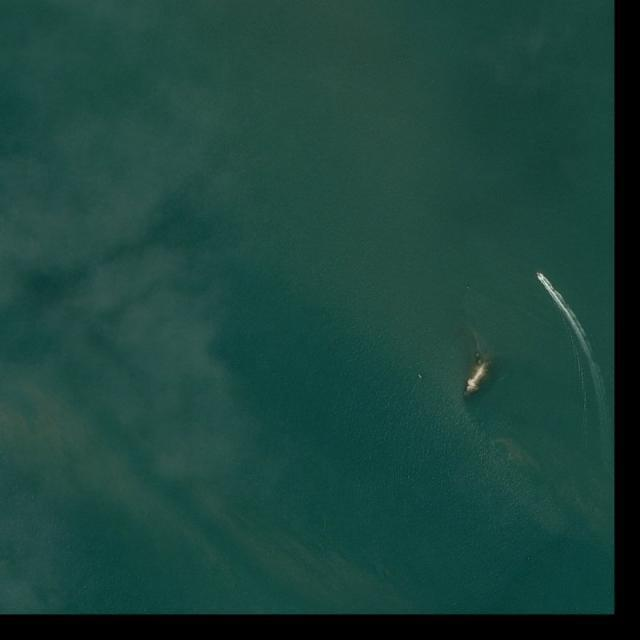ship: (536, 272, 542, 278), (417, 373, 422, 379)
